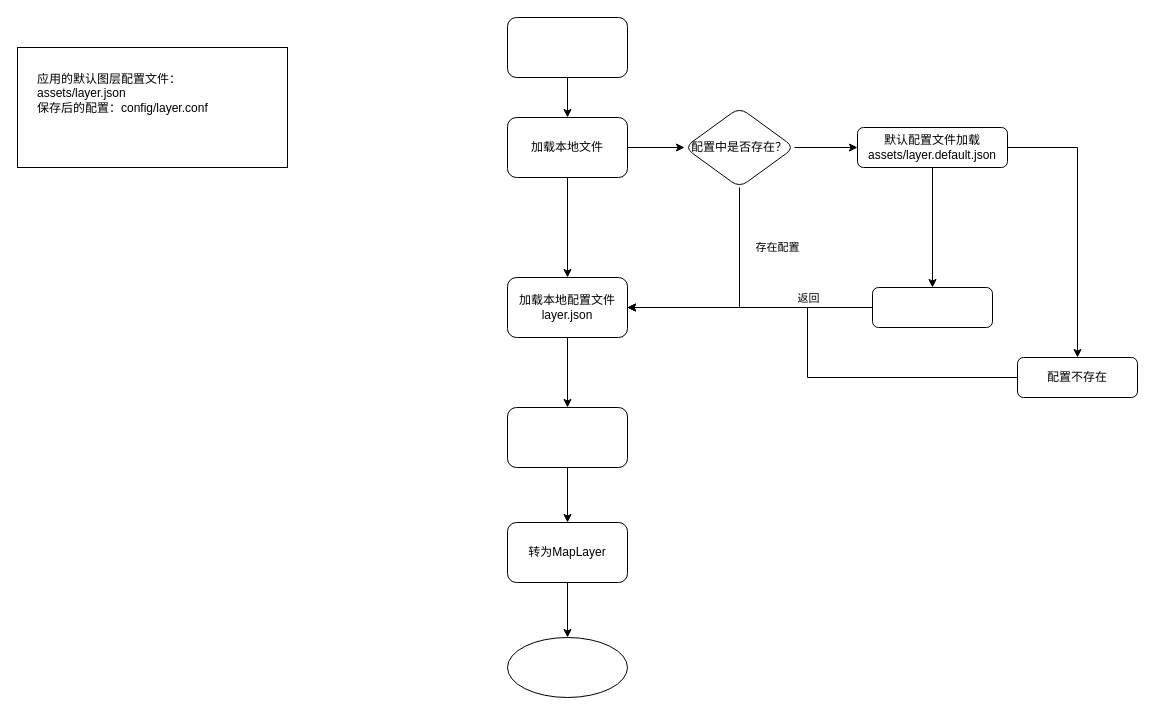
Image size: 1155x715. Some labels were removed from this diagram. The shapes that lost their labels are listed below. From the top down, each one's centre as x and y in pixels, then its label:
the point at 567,47: 开始图层加载
the point at 932,307: 写入配置
the point at 567,437: 最终以config/layer.json为主加载图层
the point at 567,667: 加载完毕
